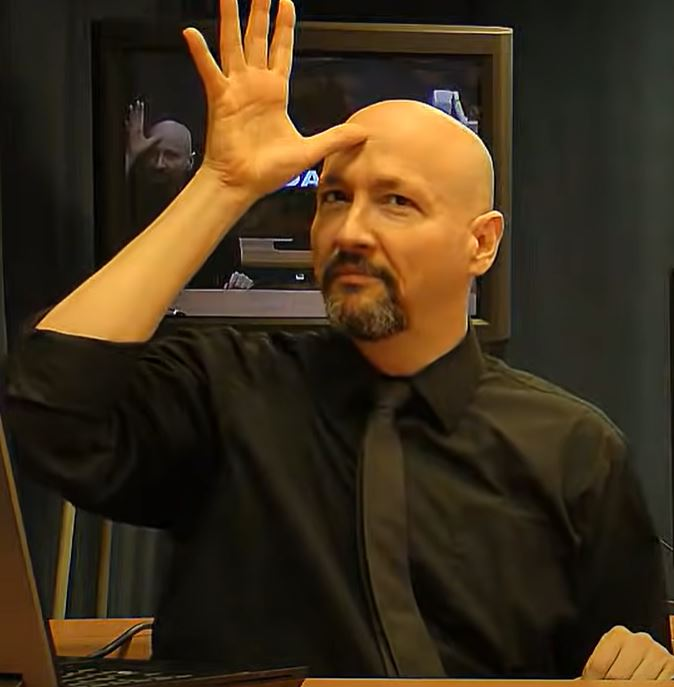Dad: (142, 1, 394, 206)
